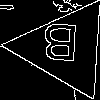B: (40, 23, 80, 71)
